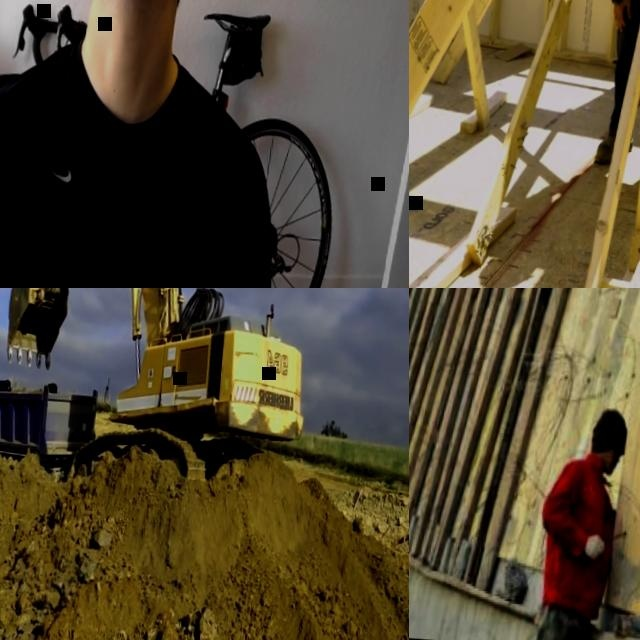NO-Hardhat: (591, 405, 631, 459)
NO-Mask: (597, 452, 618, 476)
NO-Safety Vest: (0, 45, 245, 288), (540, 462, 617, 614)
Person: (0, 0, 311, 288), (530, 397, 634, 640), (572, 0, 640, 168)
machinery: (0, 288, 329, 496), (0, 361, 101, 479)
